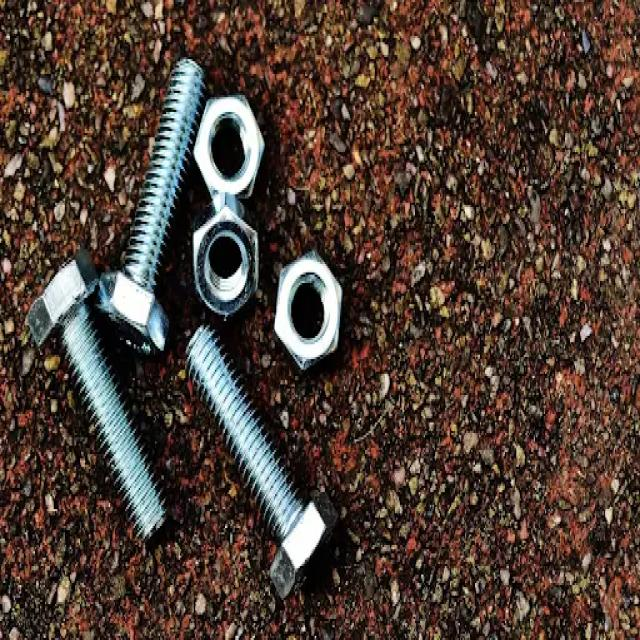Logam: (33, 46, 423, 635)
